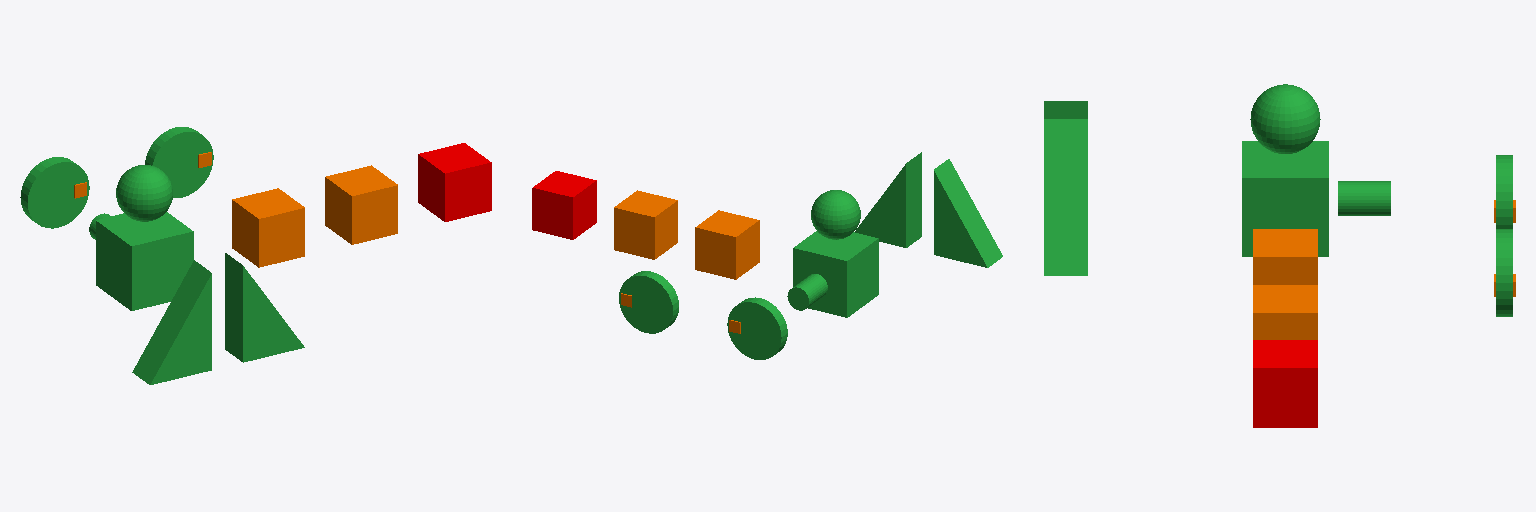
robot.urdf — rviz_parity:
<?xml version="1.0"?>
<!-- Cases where other URDF viewers differ from RViz (#28). Each link's comment is what RViz (rolling) draws. -->
<robot name="rviz_parity">
  <material name="green"><color rgba="0.2 0.7 0.3 1"/></material>

  <!-- Three visuals: all three drawn (box, sphere above it, cylinder beside it). -->
  <link name="multi_visual">
    <visual><geometry><box size="0.2 0.2 0.2"/></geometry><material name="green"/></visual>
    <visual><origin xyz="0 0 0.2"/><geometry><sphere radius="0.08"/></geometry><material name="green"/></visual>
    <visual><origin xyz="0 0.18 0" rpy="1.5708 0 0"/><geometry><cylinder radius="0.04" length="0.12"/></geometry><material name="green"/></visual>
  </link>

  <!-- A named material defined inside this link: orange. -->
  <link name="local_definition">
    <visual><geometry><box size="0.15 0.15 0.15"/></geometry><material name="orange"><color rgba="1 0.5 0 1"/></material></visual>
  </link>

  <!-- Names the material the previous link defined: orange too (urdfdom registers it for later links). -->
  <link name="local_reference">
    <visual><geometry><box size="0.15 0.15 0.15"/></geometry><material name="orange"/></visual>
  </link>

  <!-- Names the robot-level green and gives its own red: green (urdfdom takes the robot-level material). -->
  <link name="robot_material_wins">
    <visual><geometry><box size="0.15 0.15 0.15"/></geometry><material name="green"><color rgba="1 0 0 1"/></material></visual>
  </link>

  <!-- Upper-case .STL loads; the wedge's slope faces -x, tall along +z, as in the file (no axis change for STL). -->
  <link name="stl_right">
    <visual><geometry><mesh filename="meshes/Wedge.STL"/></geometry><material name="green"/></visual>
  </link>

  <!-- scale="-1 1 1": the same wedge mirrored, slope facing +x, lit like the other one. -->
  <link name="stl_mirrored">
    <visual><geometry><mesh filename="meshes/Wedge.STL" scale="-1 1 1"/></geometry><material name="green"/></visual>
  </link>

  <!-- glTF without a URDF material: keeps its own red; glTF Y-up is turned to Z-up, so it stands like the STL; placed by origin. -->
  <link name="gltf_own_material">
    <visual><origin xyz="0 0 0.05"/><geometry><mesh filename="meshes/wedge.gltf"/></geometry></visual>
  </link>

  <!-- glTF with a URDF material: green replaces the mesh's red. -->
  <link name="gltf_urdf_material">
    <visual><origin xyz="0 0 0.05"/><geometry><mesh filename="meshes/wedge.gltf"/></geometry><material name="green"/></visual>
  </link>

  <!-- Continuous joints, without <limit> and with an effort-only <limit>: both turn freely. -->
  <link name="wheel">
    <visual><origin rpy="1.5708 0 0"/><geometry><cylinder radius="0.1" length="0.04"/></geometry><material name="green"/></visual>
    <visual><origin xyz="0.07 0 0"/><geometry><box size="0.04 0.05 0.04"/></geometry><material name="orange"/></visual>
  </link>
  <link name="wheel_with_effort">
    <visual><origin rpy="1.5708 0 0"/><geometry><cylinder radius="0.1" length="0.04"/></geometry><material name="green"/></visual>
    <visual><origin xyz="0.07 0 0"/><geometry><box size="0.04 0.05 0.04"/></geometry><material name="orange"/></visual>
  </link>

  <joint name="to_local_definition" type="fixed"><parent link="multi_visual"/><child link="local_definition"/><origin xyz="0.4 0 0"/></joint>
  <joint name="to_local_reference" type="fixed"><parent link="multi_visual"/><child link="local_reference"/><origin xyz="0.7 0 0"/></joint>
  <joint name="to_robot_material_wins" type="fixed"><parent link="multi_visual"/><child link="robot_material_wins"/><origin xyz="1.0 0 0"/></joint>
  <joint name="to_stl_right" type="fixed"><parent link="multi_visual"/><child link="stl_right"/><origin xyz="0 -0.5 -0.1"/></joint>
  <joint name="to_stl_mirrored" type="fixed"><parent link="multi_visual"/><child link="stl_mirrored"/><origin xyz="-0.1 -0.5 -0.1"/></joint>
  <joint name="to_gltf_own_material" type="fixed"><parent link="multi_visual"/><child link="gltf_own_material"/><origin xyz="0.4 -0.5 -0.15"/></joint>
  <joint name="to_gltf_urdf_material" type="fixed"><parent link="multi_visual"/><child link="gltf_urdf_material"/><origin xyz="0.7 -0.5 -0.15"/></joint>
  <joint name="wheel" type="continuous"><parent link="multi_visual"/><child link="wheel"/><origin xyz="0 0.5 0"/><axis xyz="0 1 0"/></joint>
  <joint name="wheel_with_effort" type="continuous"><parent link="multi_visual"/><child link="wheel_with_effort"/><origin xyz="0.4 0.5 0"/><axis xyz="0 1 0"/><limit effort="10" velocity="5"/></joint>
</robot>

--- What the picture shows (computed from the rendered views, not written in the file) ---
Views: 3 orthographic renders of the robot side by side, from view 1: azimuth 30°, elevation 25°; view 2: azimuth 150°, elevation 25°; view 3: azimuth 270°, elevation 25°.
Model rviz_parity with 10 links and 9 joints (2 continuous, 7 fixed), rooted at multi_visual, posed every joint at zero.
Visible links, largest first — view 1: multi_visual, stl_mirrored, robot_material_wins, stl_right, local_definition, local_reference, wheel, wheel_with_effort; view 2: multi_visual, stl_mirrored, local_definition, robot_material_wins, local_reference, stl_right, wheel_with_effort, wheel; view 3: multi_visual, stl_right, robot_material_wins, local_definition, local_reference, wheel_with_effort, wheel, stl_mirrored.
Boxes of the visible links, left/top/right/bottom form: multi_visual: left=89, top=165, right=193, bottom=310; stl_mirrored: left=132, top=260, right=211, bottom=384; robot_material_wins: left=418, top=143, right=491, bottom=221; stl_right: left=225, top=253, right=304, bottom=362; local_definition: left=232, top=188, right=304, bottom=267; local_reference: left=325, top=165, right=397, bottom=244; wheel: left=20, top=157, right=89, bottom=228; wheel_with_effort: left=145, top=127, right=213, bottom=197; multi_visual: left=787, top=190, right=878, bottom=317; stl_mirrored: left=934, top=159, right=1002, bottom=267; local_definition: left=695, top=210, right=759, bottom=279; robot_material_wins: left=532, top=171, right=596, bottom=239; local_reference: left=614, top=190, right=677, bottom=259; stl_right: left=855, top=152, right=921, bottom=247; wheel_with_effort: left=619, top=271, right=678, bottom=333; wheel: left=727, top=297, right=787, bottom=359; multi_visual: left=1242, top=84, right=1390, bottom=256; stl_right: left=1044, top=119, right=1087, bottom=275; robot_material_wins: left=1253, top=340, right=1317, bottom=427; local_definition: left=1253, top=229, right=1317, bottom=284; local_reference: left=1253, top=285, right=1317, bottom=339; wheel_with_effort: left=1494, top=229, right=1515, bottom=316; wheel: left=1494, top=155, right=1515, bottom=228; stl_mirrored: left=1044, top=101, right=1087, bottom=118.
Size in the robot's own frame: 1.38 by 1.07 by 0.38 metres.
Meshes: 2 distinct files referenced, 2 mesh visuals loaded (1 ASCII STL); not drawn: 2 (reference not matched to a file when rendering).
